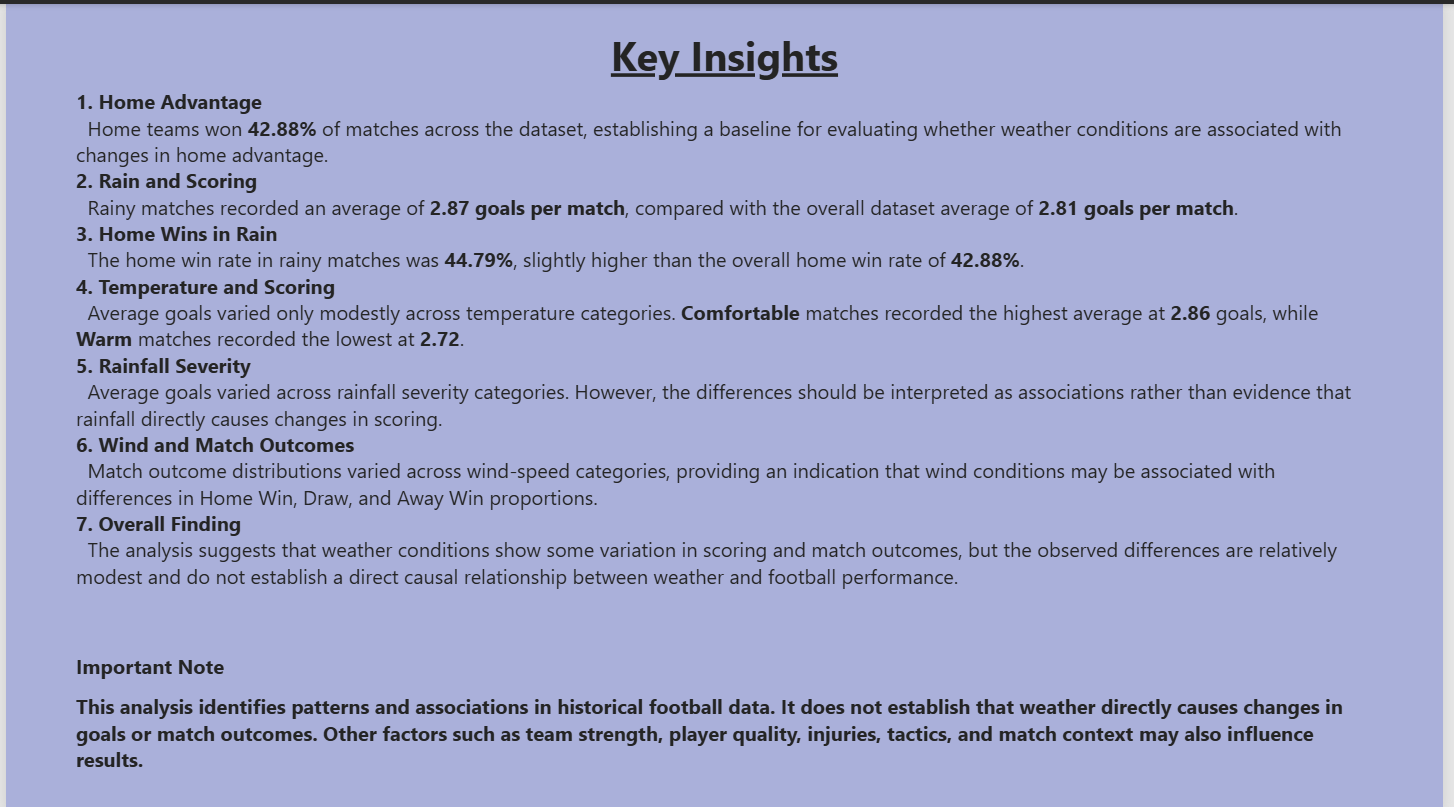

The page's visual inventory and layout, read from the dashboard file:
{"tool":"powerbi","page":{"name":"Key Insights","canvas":[1920,1080],"ordinal":3},"visuals":[{"type":"textbox","box":[32,32,1856,80],"z":3000},{"type":"textbox","box":[94,112,1734,696],"z":3001},{"type":"textbox","box":[94,866,1734,174],"z":3002}]}

Visuals, with their boxes in screenshot pixels (x1, y1, x2, y2), scaled from the page's 1920x1080 canvas onto the 1454x807 screenshot:
textbox: box=[24, 24, 1430, 84]
textbox: box=[71, 84, 1384, 604]
textbox: box=[71, 647, 1384, 777]
